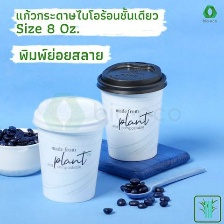paper_cup: (29, 92, 109, 205), (93, 57, 172, 164)
